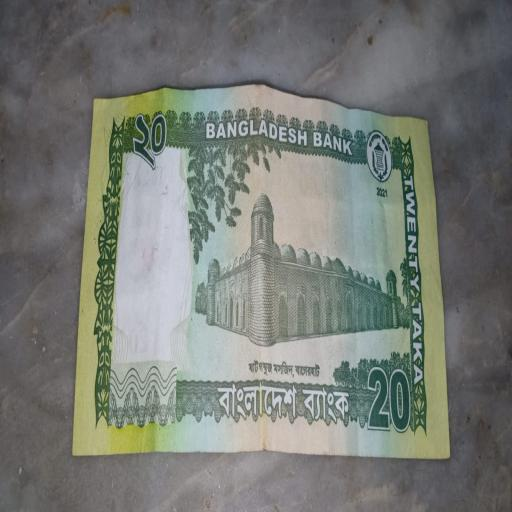20taka: (72, 97, 446, 457)
